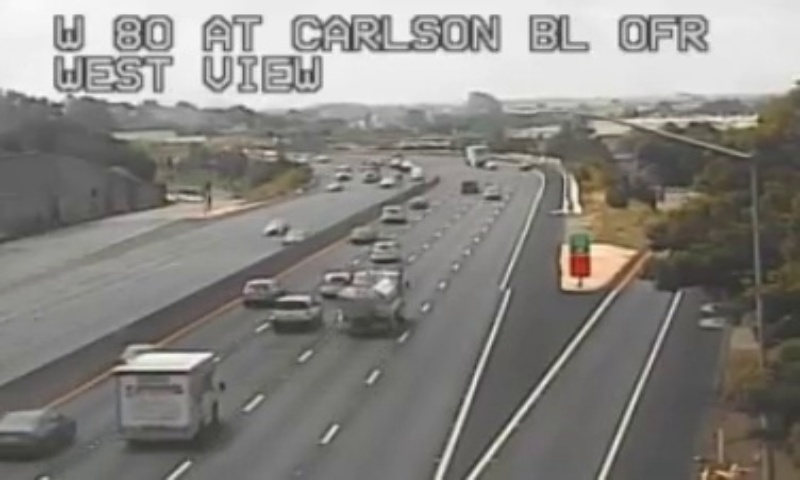car: (2, 407, 74, 458), (270, 294, 321, 324), (241, 279, 281, 305), (317, 270, 348, 295), (370, 240, 400, 261)
small-truck: (117, 351, 221, 445)
tank-truck: (344, 268, 404, 332)
